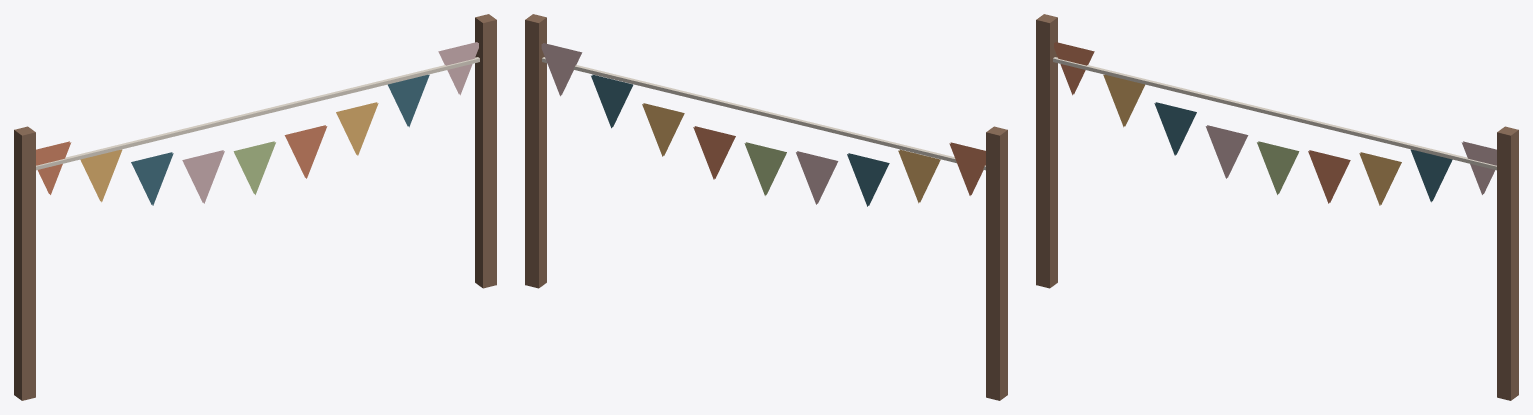
Rendered from bunting.glb.
3 views of the same model, side by side, from view 1: azimuth 30°, elevation 25°; view 2: azimuth 150°, elevation 25°; view 3: azimuth 330°, elevation 25° (orthographic).
Parts seen in each view (by area): view 1: pole-1, pole1, detail_string, flag2, flag5, flag3, flag4, flag6, flag7, flag1, flag8, flag0; view 2: pole-1, pole1, detail_string, flag1, flag4, flag6, flag7, flag2, flag5, flag3, flag8, flag0; view 3: pole1, pole-1, detail_string, flag3, flag6, flag2, flag4, flag5, flag1, flag7, flag0, flag8.
Part boxes in pixels (box(x1,y1,x2,y2)): pole-1: box(14, 126, 35, 400); pole1: box(475, 14, 496, 288); detail_string: box(36, 57, 479, 170); flag2: box(131, 152, 173, 205); flag5: box(284, 125, 327, 178); flag3: box(182, 150, 224, 203); flag4: box(233, 141, 275, 194); flag6: box(336, 102, 378, 155); flag7: box(388, 74, 429, 127); flag1: box(80, 149, 122, 202); flag8: box(438, 42, 478, 95); flag0: box(36, 141, 71, 194); pole-1: box(986, 126, 1007, 400); pole1: box(525, 14, 546, 288); detail_string: box(542, 57, 985, 170); flag1: box(898, 149, 940, 203); flag4: box(744, 142, 786, 195); flag6: box(642, 103, 684, 156); flag7: box(591, 74, 633, 128); flag2: box(847, 153, 889, 206); flag5: box(693, 126, 735, 179); flag3: box(796, 151, 838, 204); flag8: box(541, 43, 582, 96); flag0: box(949, 142, 985, 195); pole1: box(1497, 126, 1518, 400); pole-1: box(1036, 14, 1057, 288); detail_string: box(1053, 57, 1496, 170); flag3: box(1205, 125, 1248, 178); flag6: box(1359, 152, 1401, 205); flag2: box(1154, 102, 1196, 155); flag4: box(1257, 141, 1299, 194); flag5: box(1308, 150, 1350, 203); flag1: box(1103, 74, 1144, 127); flag7: box(1410, 149, 1452, 202); flag0: box(1054, 42, 1094, 95); flag8: box(1461, 141, 1496, 194).
Bounding box in the file's own units: 2.06 × 1.1 × 0.06.
